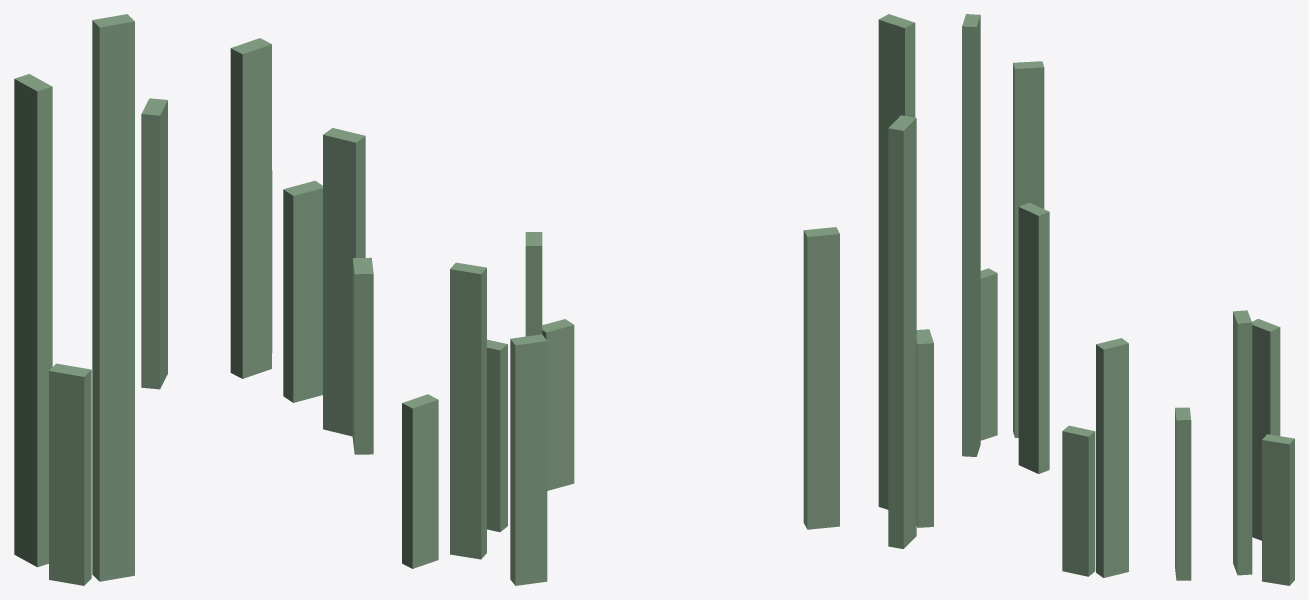
Rendered from weed_cluster_02.glb.
3 renders of one model, left to right at view 1: azimuth 30°, elevation 25°; view 2: azimuth 150°, elevation 25°; view 3: azimuth 270°, elevation 25°, orthographic. The views are drawn at different scales.
Visible parts, largest first — view 1: blade8, blade0, blade6, blade4, blade2, blade3, blade7, blade1; view 2: blade0, blade5, blade6, blade7, blade8, blade9, blade1, blade3, blade2, blade4; view 3: blade5, blade8, blade4, blade0, blade6, blade1, blade9, blade7, blade2, blade3.
Part boxes in pixels (bbox=[...]): blade8: bbox=[92, 14, 134, 581]; blade0: bbox=[14, 74, 52, 567]; blade6: bbox=[230, 38, 271, 378]; blade4: bbox=[323, 128, 365, 436]; blade2: bbox=[49, 363, 91, 585]; blade3: bbox=[283, 180, 322, 402]; blade7: bbox=[141, 98, 167, 389]; blade1: bbox=[352, 257, 373, 454]; blade0: bbox=[888, 115, 916, 548]; blade5: bbox=[803, 227, 839, 529]; blade6: bbox=[450, 262, 486, 559]; blade7: bbox=[510, 334, 547, 585]; blade8: bbox=[878, 14, 915, 509]; blade9: bbox=[402, 394, 438, 568]; blade1: bbox=[542, 319, 574, 490]; blade3: bbox=[487, 339, 507, 532]; blade2: bbox=[916, 329, 933, 527]; blade4: bbox=[525, 232, 542, 336]; blade5: bbox=[1018, 202, 1049, 473]; blade8: bbox=[962, 14, 980, 456]; blade4: bbox=[1096, 338, 1128, 577]; blade0: bbox=[1013, 61, 1044, 437]; blade6: bbox=[1233, 310, 1252, 575]; blade1: bbox=[1062, 425, 1095, 576]; blade9: bbox=[1262, 434, 1294, 585]; blade7: bbox=[1252, 319, 1280, 540]; blade2: bbox=[980, 268, 997, 440]; blade3: bbox=[1175, 407, 1191, 580].
Size of the model in its own units: 0.4989 by 0.6423 by 0.4507.
